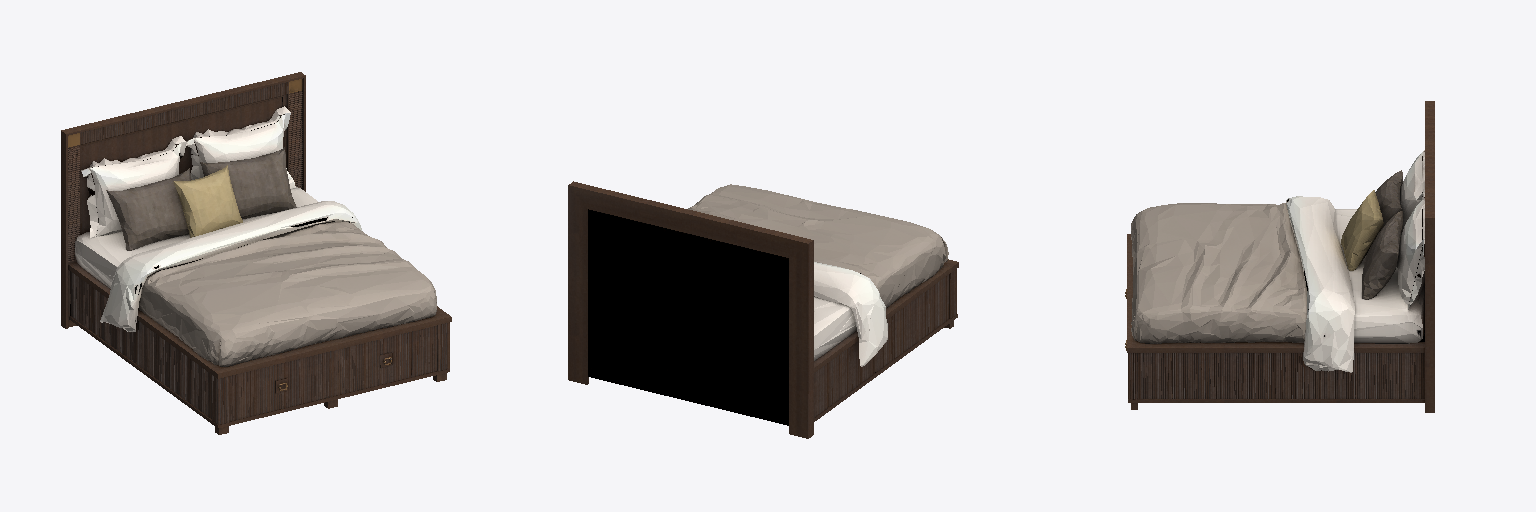
The picture shows the model from 3 angles: view 1: azimuth 30°, elevation 25°; view 2: azimuth 150°, elevation 25°; view 3: azimuth 270°, elevation 25°; orthographic projection.
Visible parts, largest first — view 1: solid_005, solid_004, solid_003, solid_001, solid_002; view 2: solid_005, solid_004, solid_003; view 3: solid_004, solid_005, solid_003, solid_001, solid_002.
Part boxes in pixels (bbox=[...]): solid_005: bbox=[61, 72, 451, 434]; solid_004: bbox=[138, 221, 436, 366]; solid_003: bbox=[75, 106, 361, 331]; solid_001: bbox=[106, 147, 296, 250]; solid_002: bbox=[173, 165, 242, 237]; solid_005: bbox=[568, 181, 958, 438]; solid_004: bbox=[688, 184, 948, 307]; solid_003: bbox=[814, 262, 887, 366]; solid_004: bbox=[1131, 203, 1306, 343]; solid_005: bbox=[1127, 101, 1434, 412]; solid_003: bbox=[1286, 150, 1424, 372]; solid_001: bbox=[1362, 170, 1402, 299]; solid_002: bbox=[1341, 190, 1383, 270].
Bounding box in the file's own units: 1.63 × 1.16 × 1.67.
Materials: 1 (1 with a texture image).